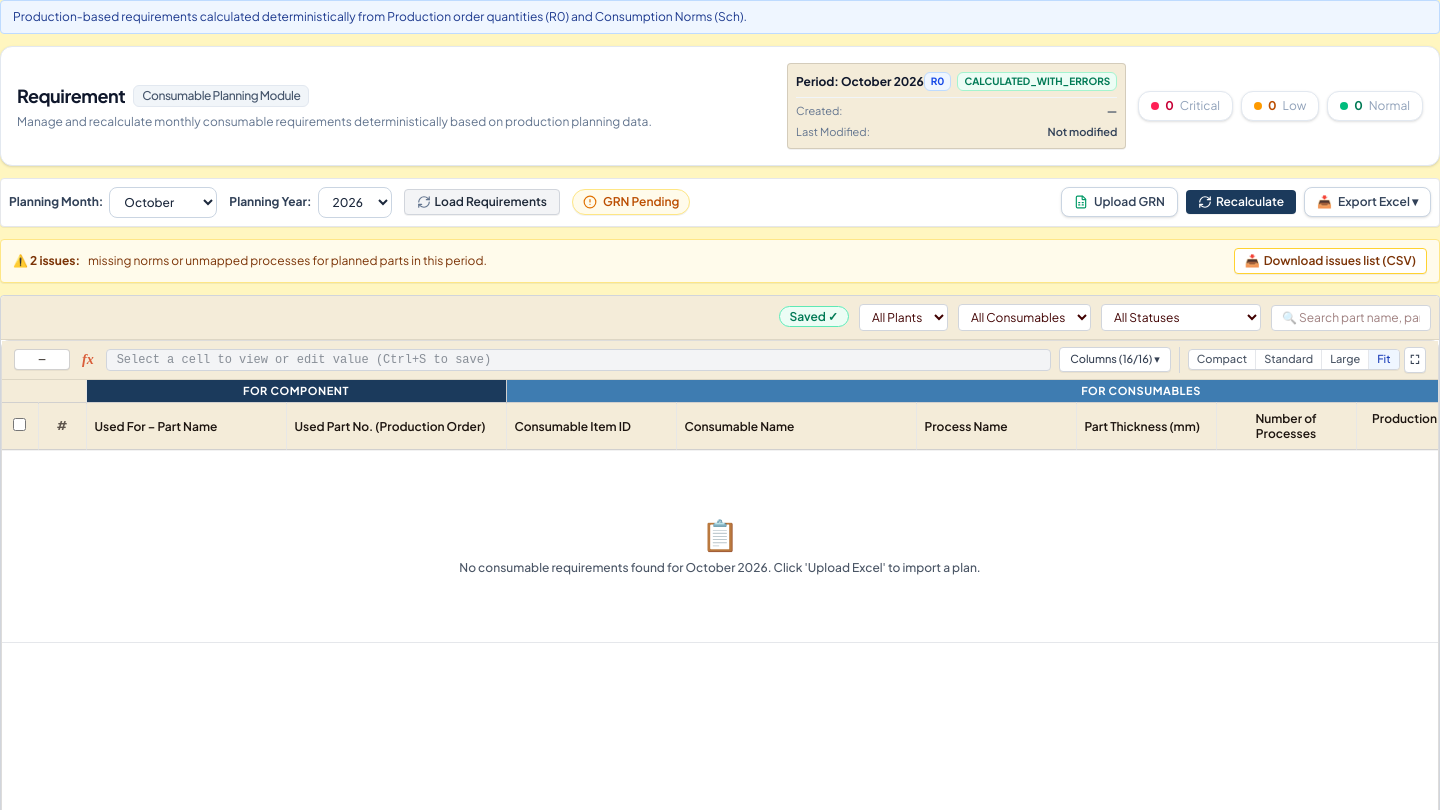
Scenario: the incoming single MRP view and issues feature work with authenticated file downloads
Check: the text "⚠️ 2 issues:" is shown, box [13,253,80,269]
Click the button "📥 Download issues list (CSV)".
click(1330, 261)  # box [1234,248,1427,274]
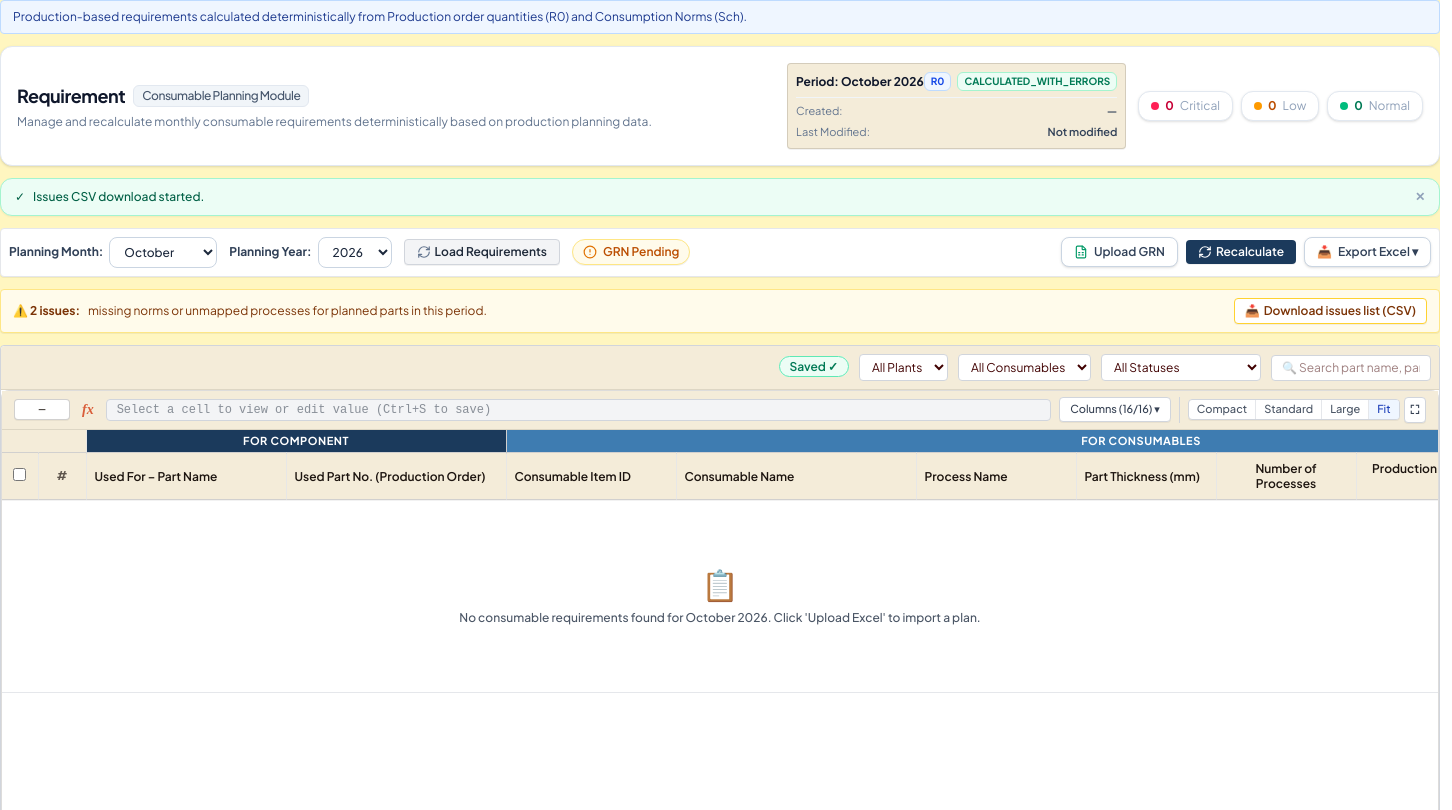
Check: the text "Issues CSV download started." is shown, box [33,189,204,205]
